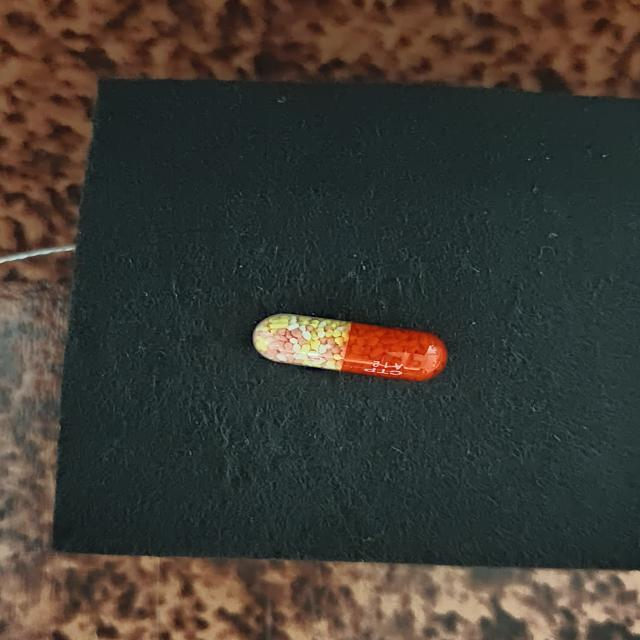Intact Capsule: (253, 313, 447, 381)
